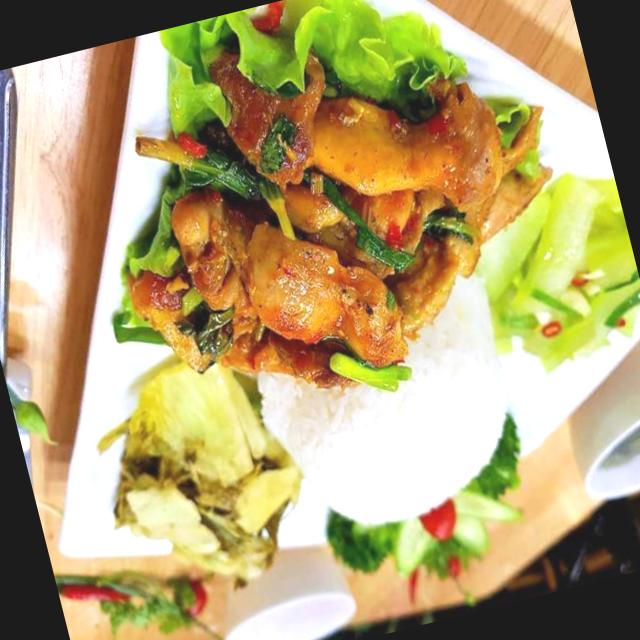com: (258, 276, 508, 523)
ga chien: (131, 52, 550, 388)
rau: (492, 174, 640, 373)
